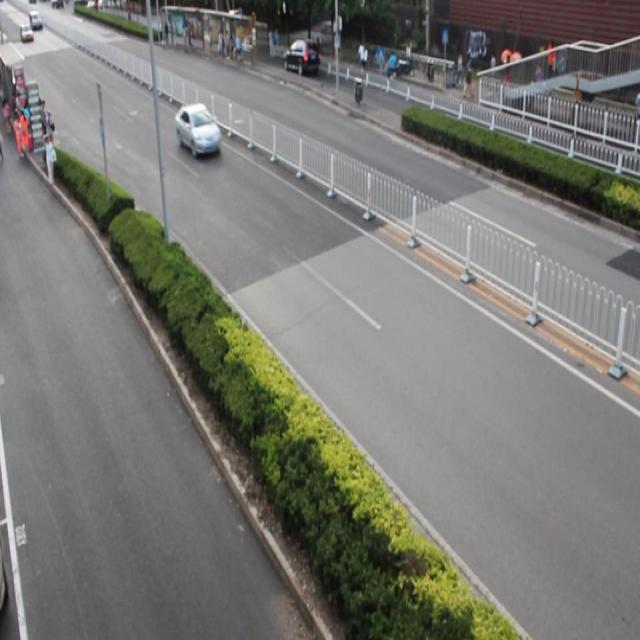car: (176, 102, 221, 160), (282, 42, 320, 77)
